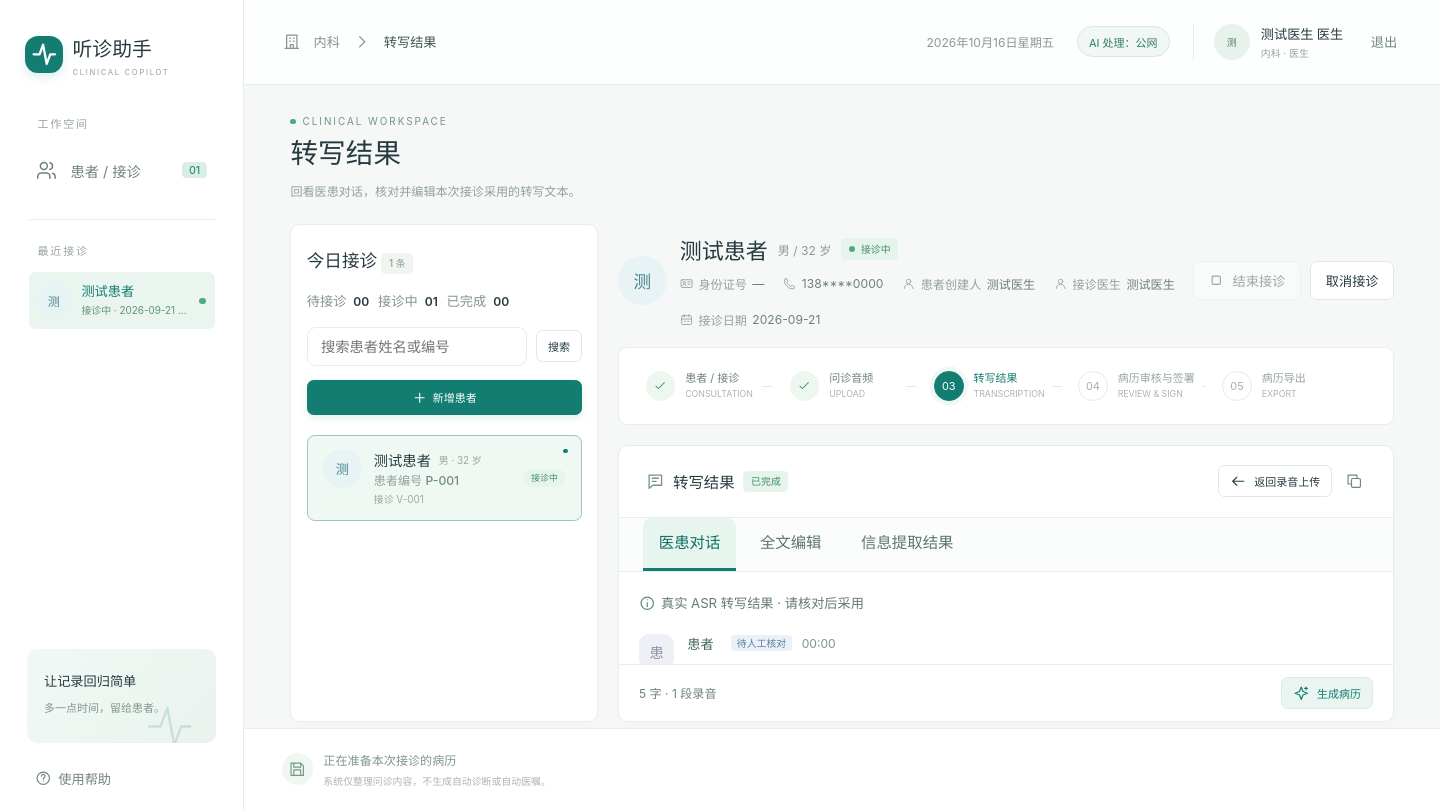
Test: supplemental recording workflow › allows an active draft to expose deletion for a transcribed audio file
The width and height of the screenshot is (1440, 810).
Click the button with aria-label "返回录音上传" at (1275, 481), box [1218, 465, 1332, 497]
(page scrolled)
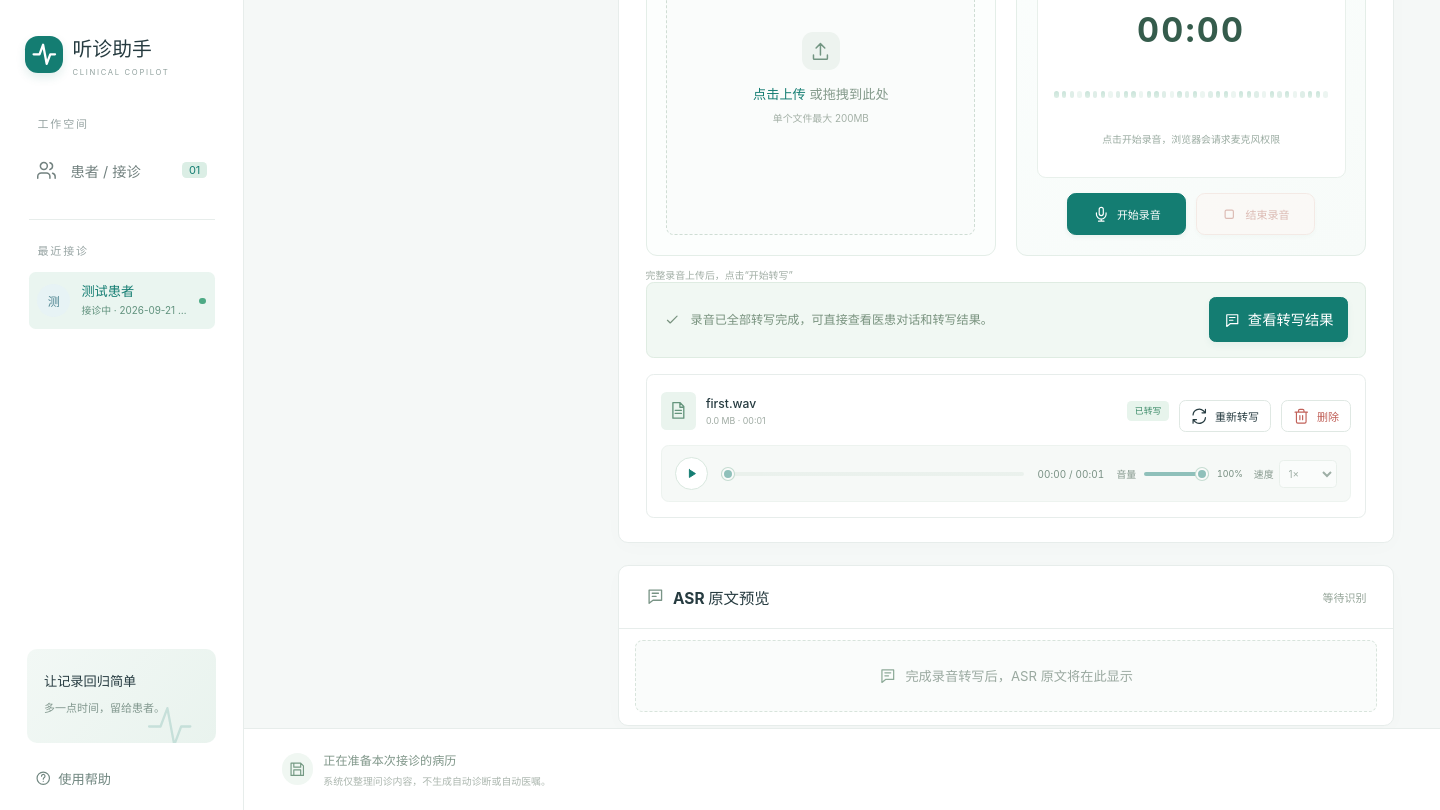
Check: the button with aria-label "删除 first.wav" is shown, box [1281, 400, 1351, 432]
